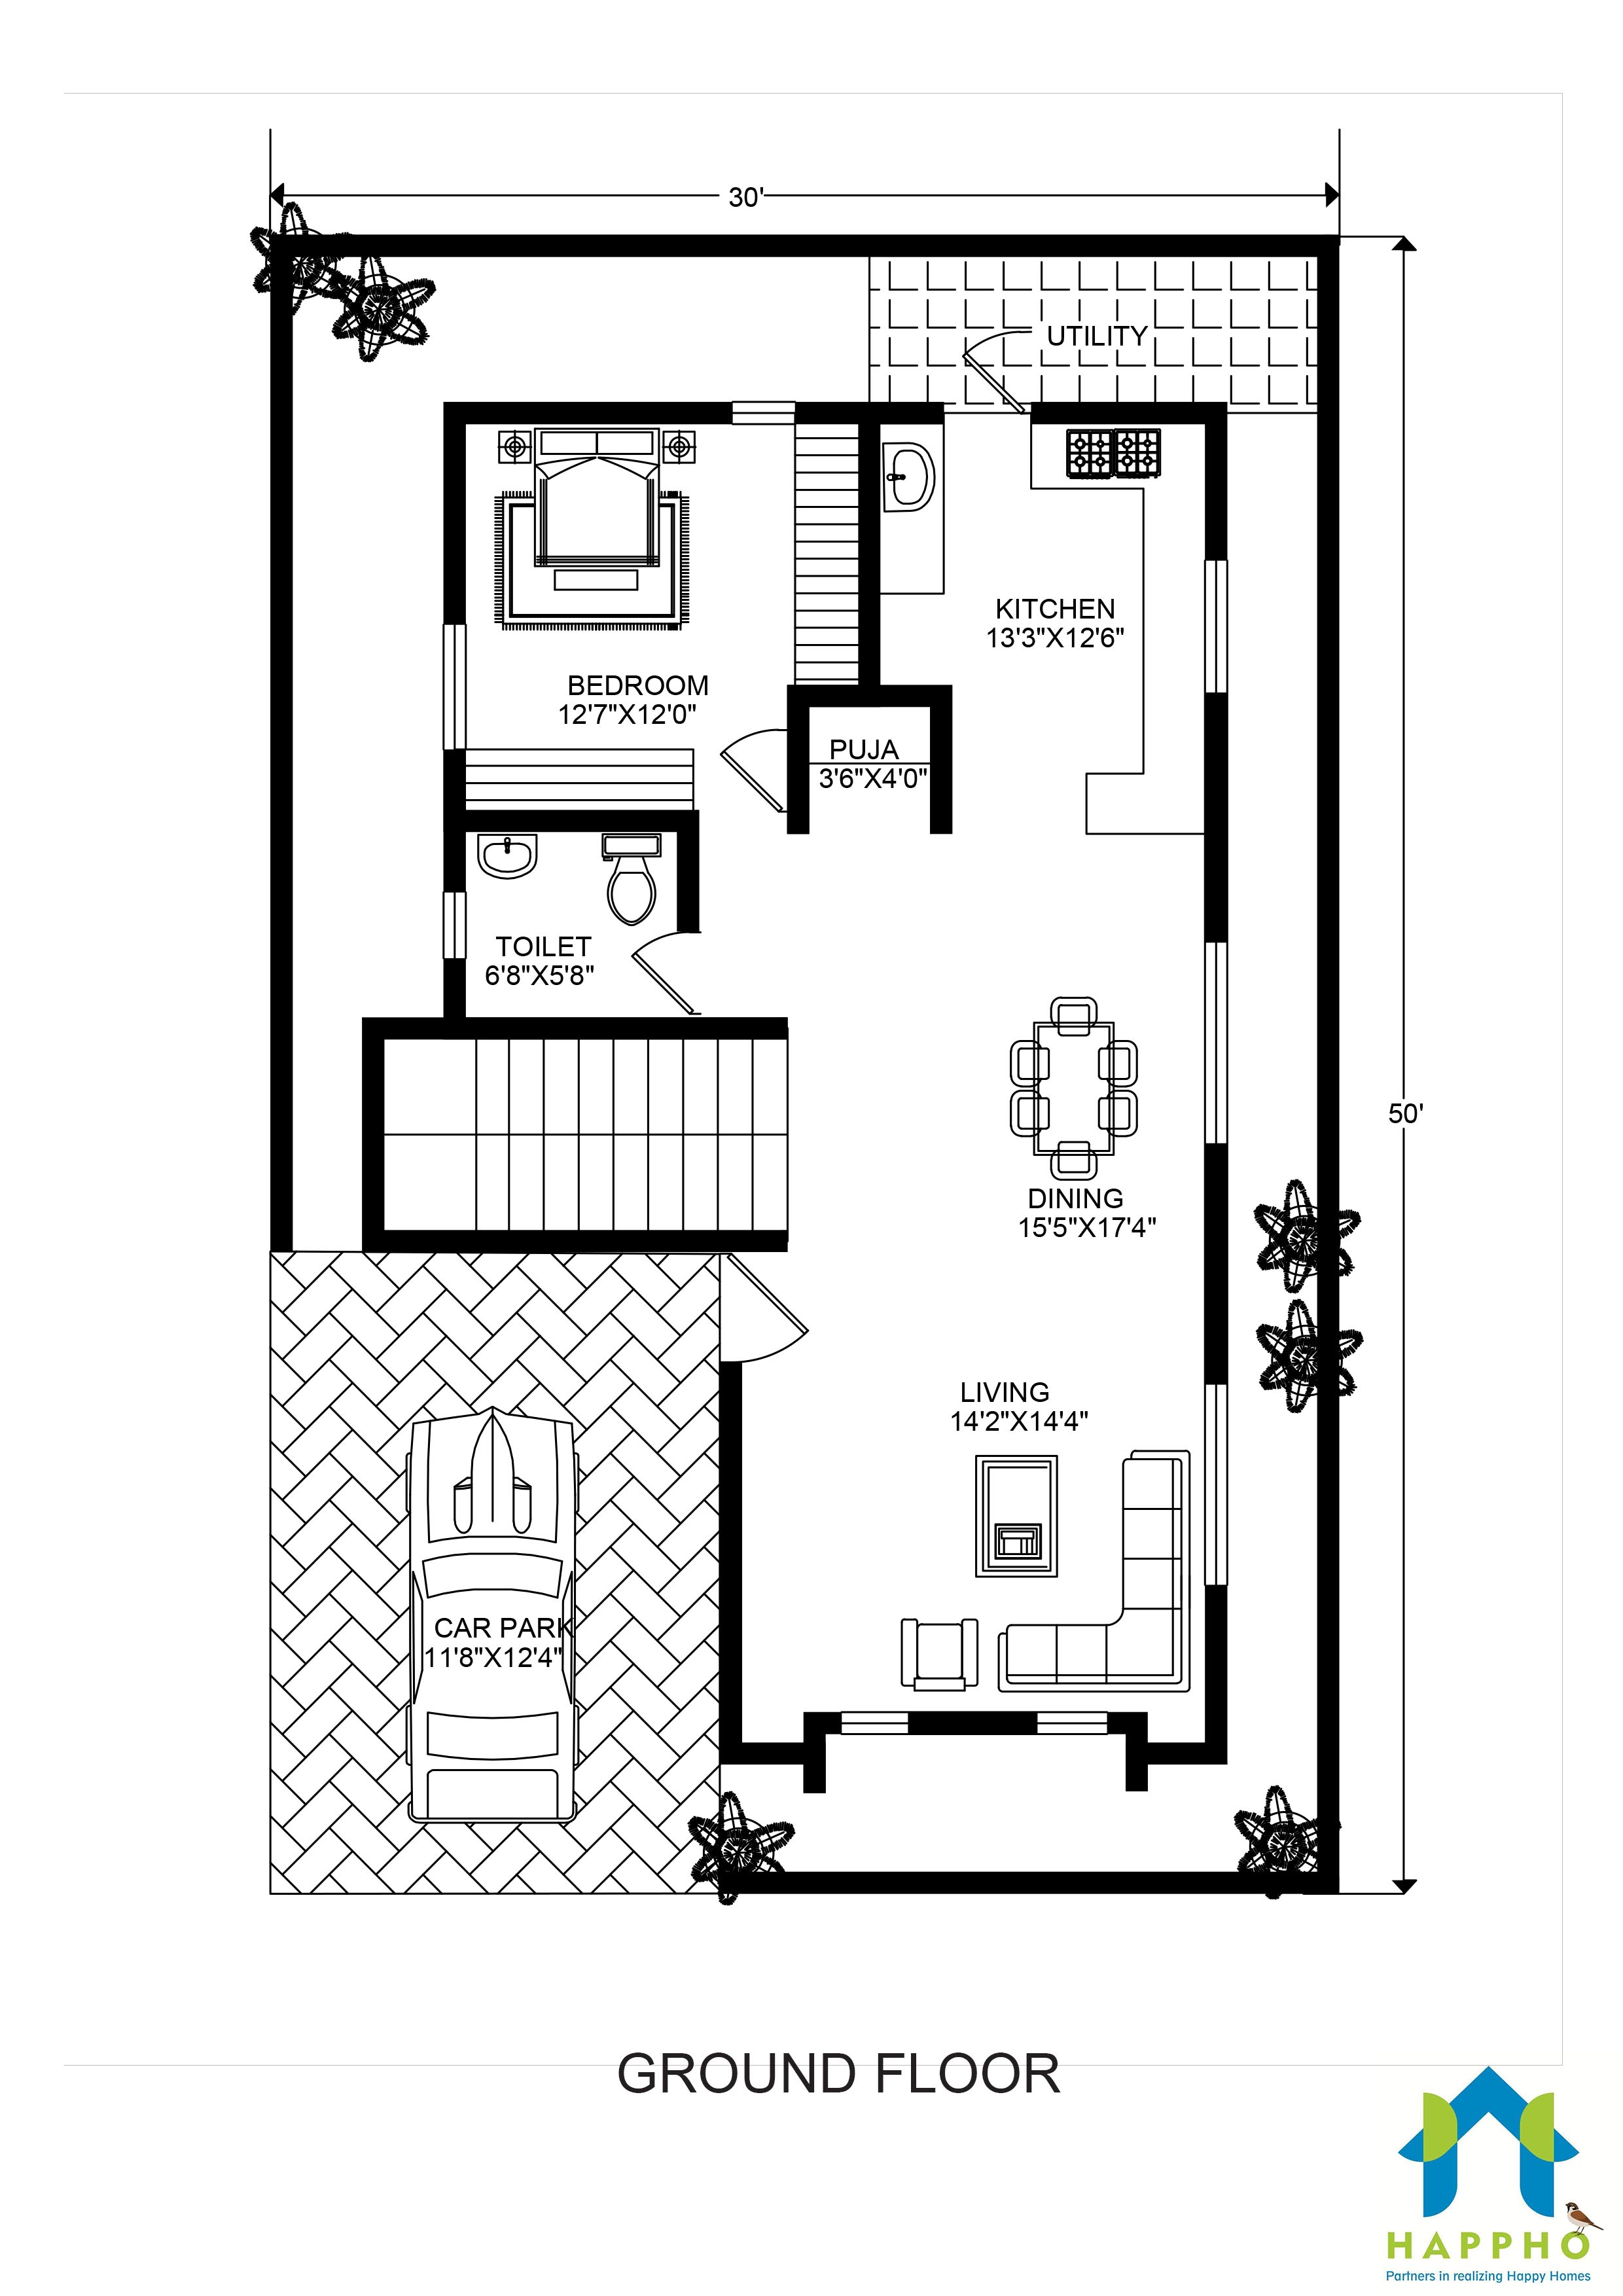window: (1201, 938, 1233, 1152), (1201, 1377, 1233, 1592), (1203, 557, 1233, 694), (441, 618, 467, 752), (439, 887, 471, 963), (727, 399, 799, 429), (838, 1709, 910, 1737), (1036, 1709, 1108, 1737)
